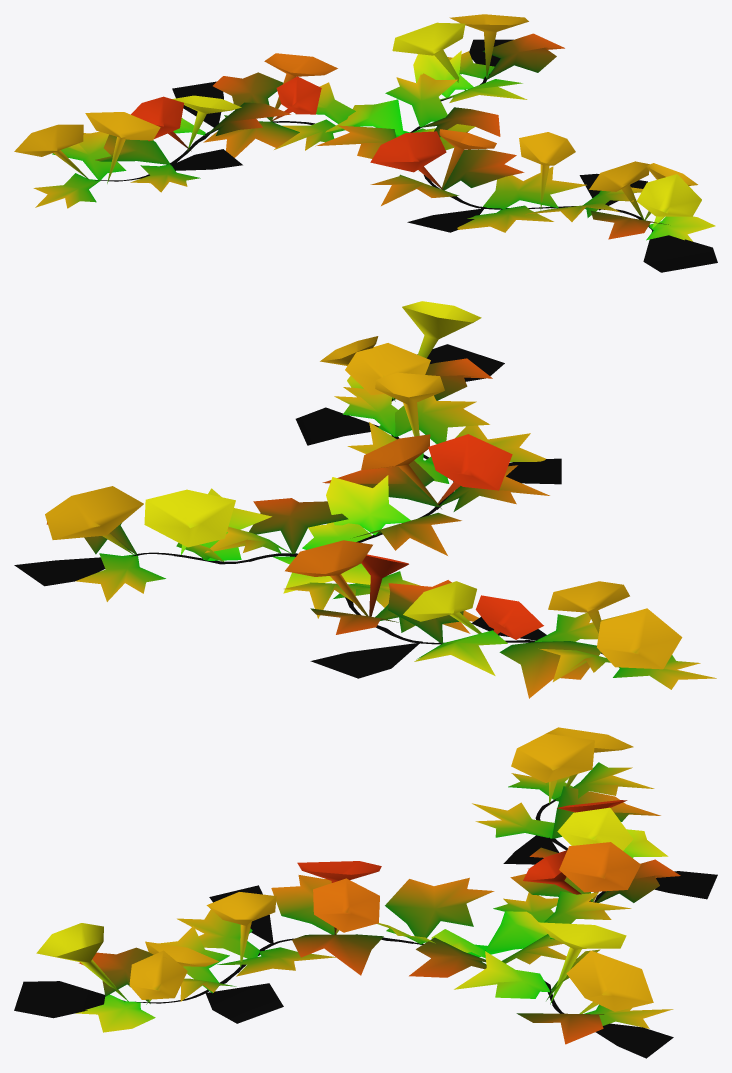
File: Mile-a-minute Vine_LOD0_Var1_sfqns.fbx
3 renders of one model, top to bottom at view 1: azimuth 30°, elevation 25°; view 2: azimuth 150°, elevation 25°; view 3: azimuth 270°, elevation 25°, orthographic. The views are drawn at different scales.
Visible parts, largest first — view 1: _cfb0_Var1_LOD0; view 2: _cfb0_Var1_LOD0; view 3: _cfb0_Var1_LOD0.
Part boxes in pixels (x1,y1,x2,y2): _cfb0_Var1_LOD0: (14,14,717,272); _cfb0_Var1_LOD0: (14,301,716,698); _cfb0_Var1_LOD0: (14,727,717,1058).
Bounding box in the file's own units: 54.07 × 6.42 × 53.24.
